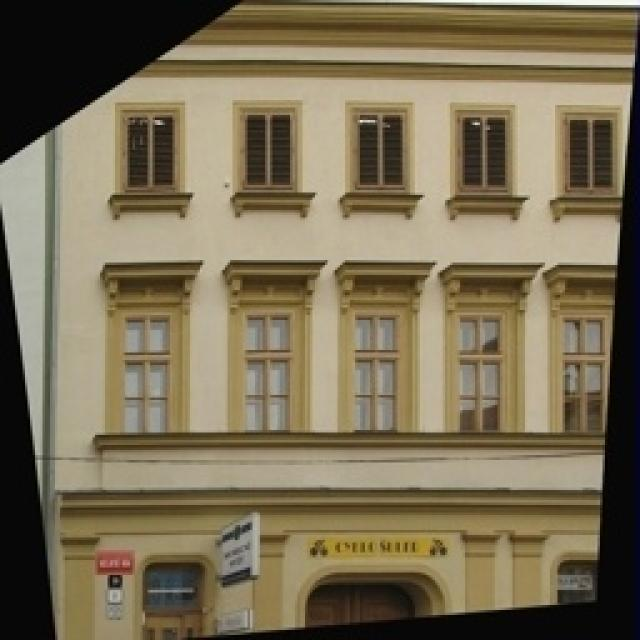building: (52, 2, 640, 640)
